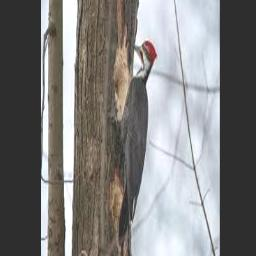Woodpecker: (112, 40, 157, 256)
